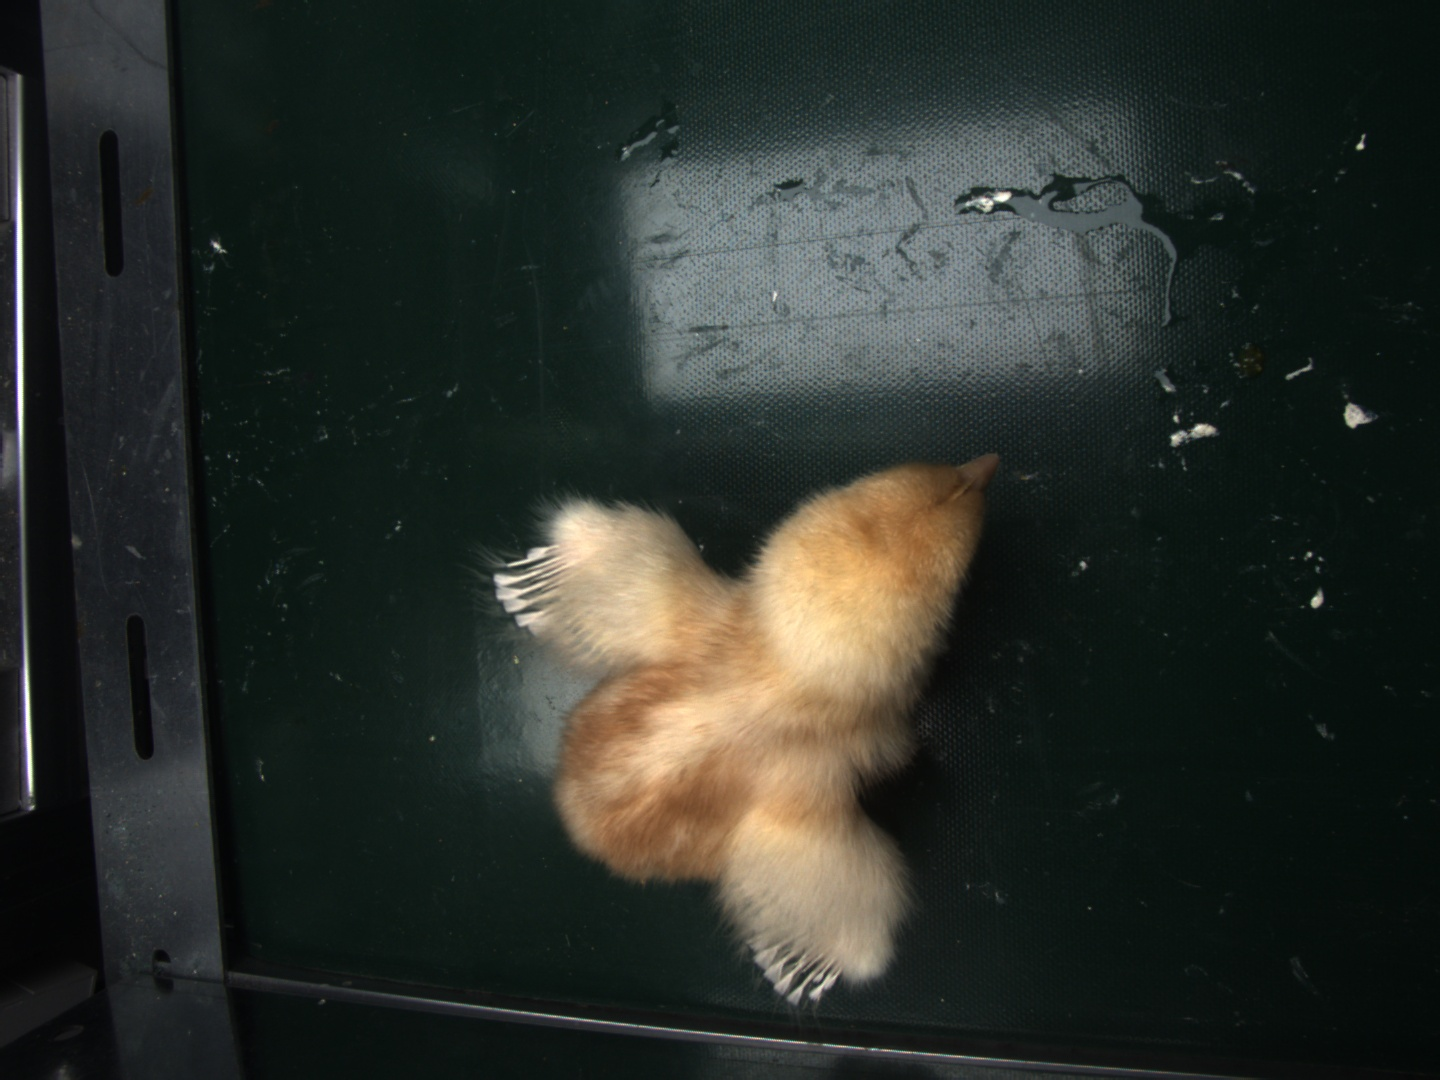female: (755, 931, 842, 1004)
